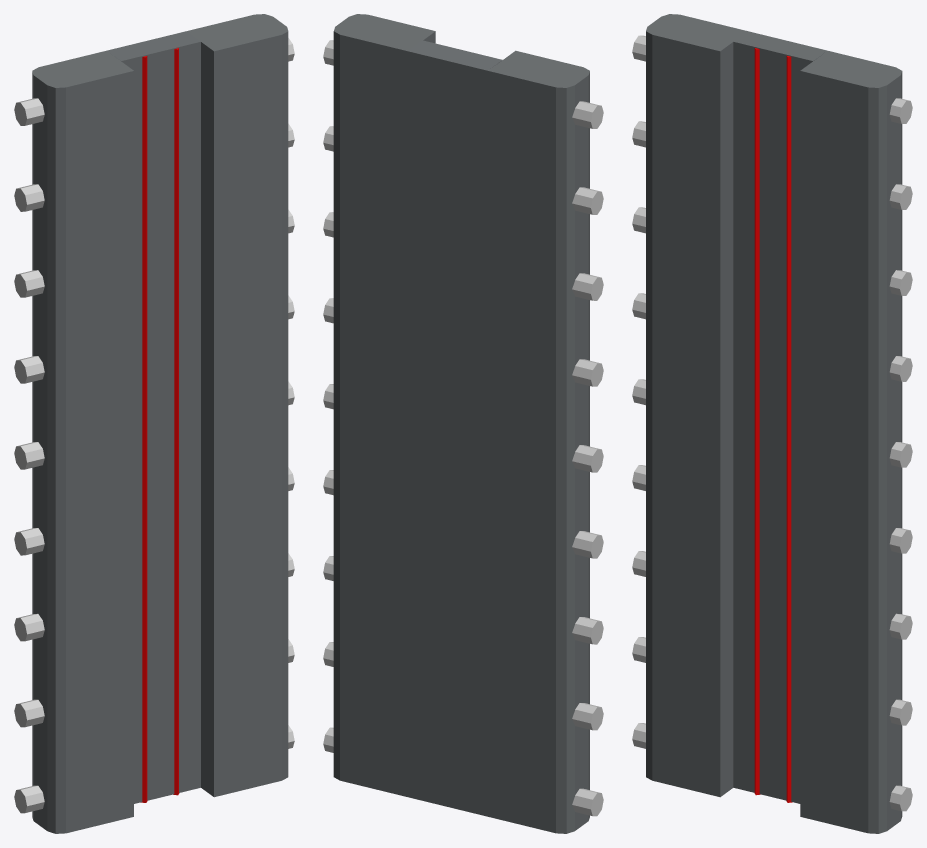
The model's file is Block.fbx.
3 views of the same model, side by side, from view 1: azimuth 30°, elevation 25°; view 2: azimuth 150°, elevation 25°; view 3: azimuth 330°, elevation 25° (orthographic).
Parts seen in each view (by area): view 1: Block; view 2: Block; view 3: Block.
Part boxes in pixels (left/top/right/bottom): Block: left=14, top=14, right=294, bottom=833; Block: left=323, top=14, right=603, bottom=833; Block: left=632, top=14, right=912, bottom=833.
Bounding box in the file's own units: 721 × 1921 × 129.
